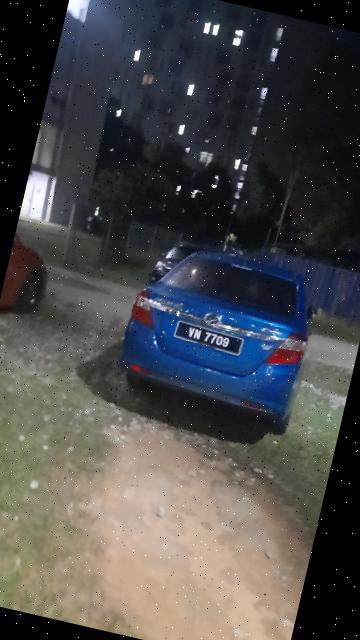License_Plate: (173, 318, 248, 359)
car: (110, 233, 330, 440)
